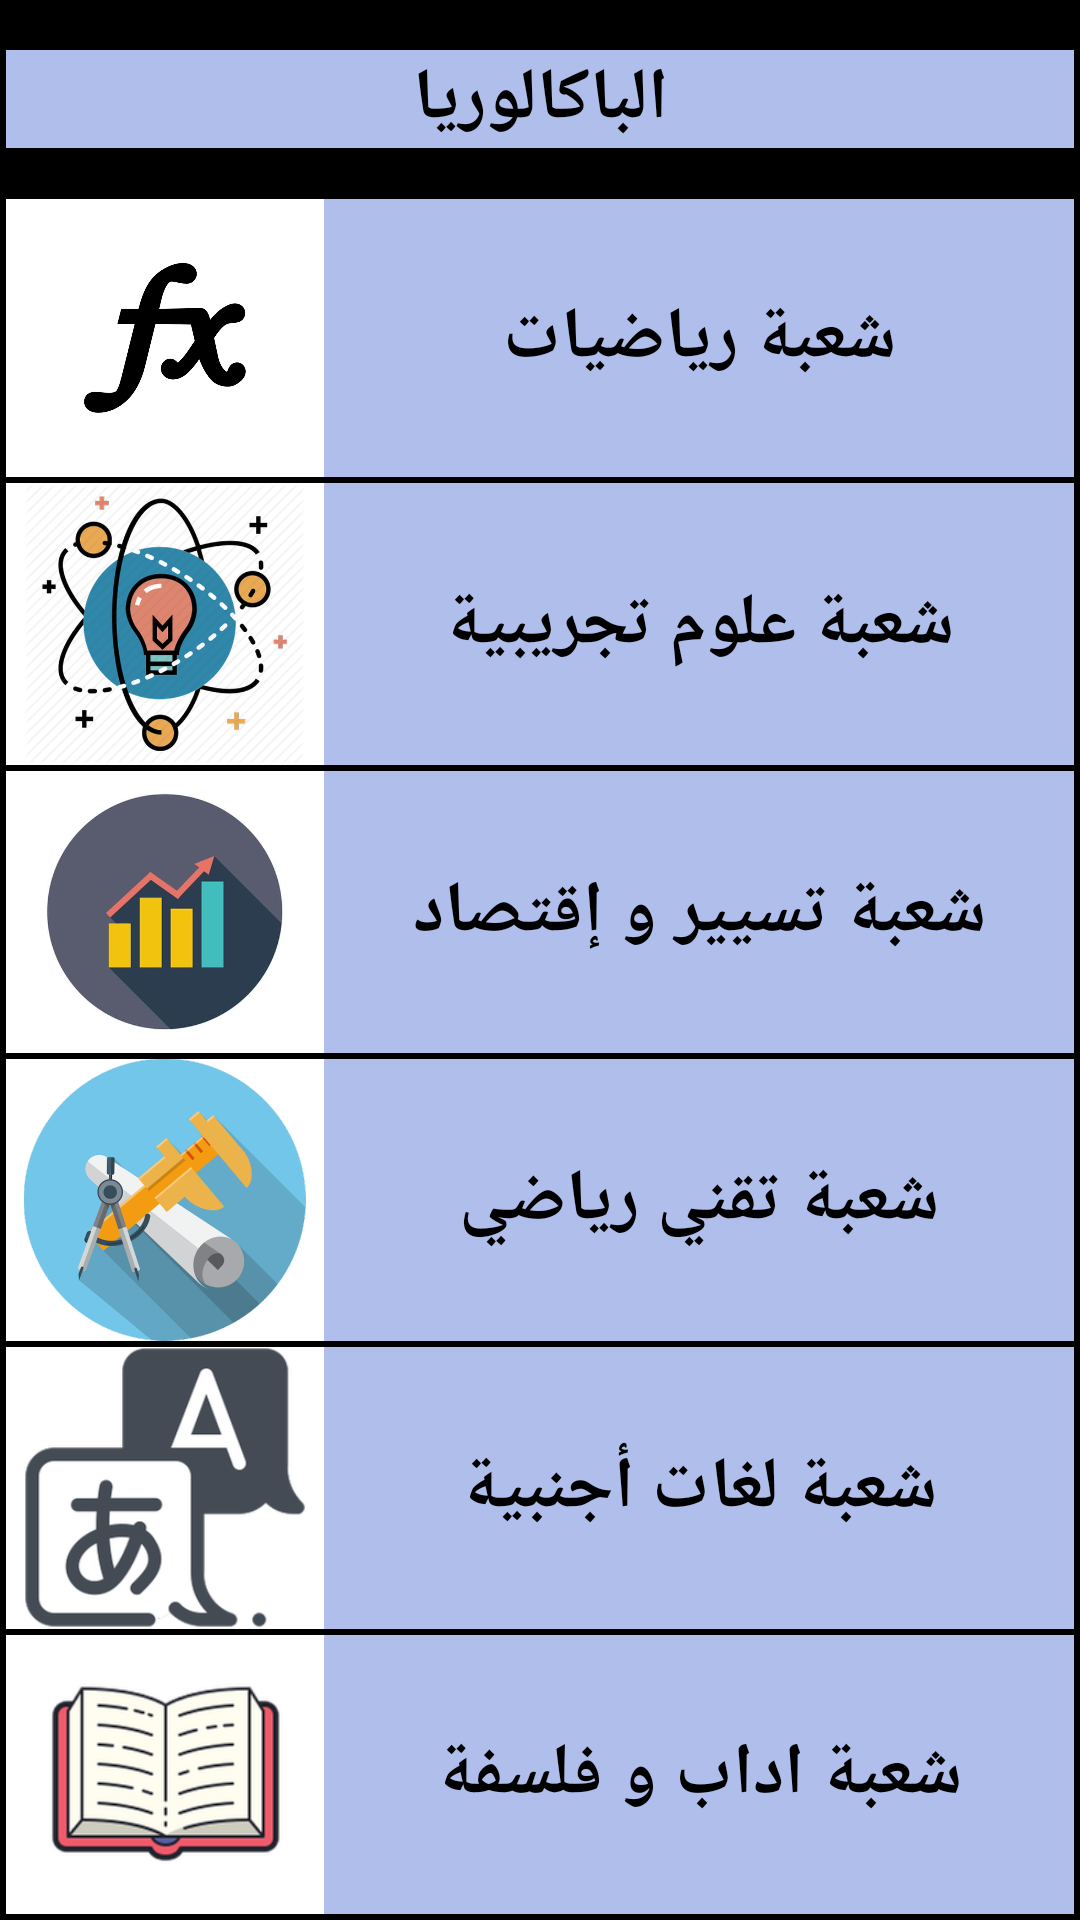

Screen size 1080x1920. Icon name, then its box in pixels as Rect(x1, y1, x2, y2):
iconomie: Rect(6, 771, 324, 1053)
la long: Rect(6, 1347, 324, 1629)
literature: Rect(6, 1635, 324, 1914)
math: Rect(6, 199, 324, 477)
math techniqe: Rect(6, 1059, 324, 1341)
sintfic: Rect(6, 483, 324, 765)
